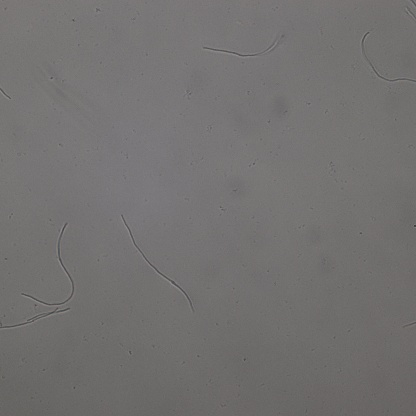Sensitive: (121, 216, 194, 312), (22, 221, 75, 306), (361, 32, 416, 85), (203, 35, 281, 59), (1, 308, 70, 331)
